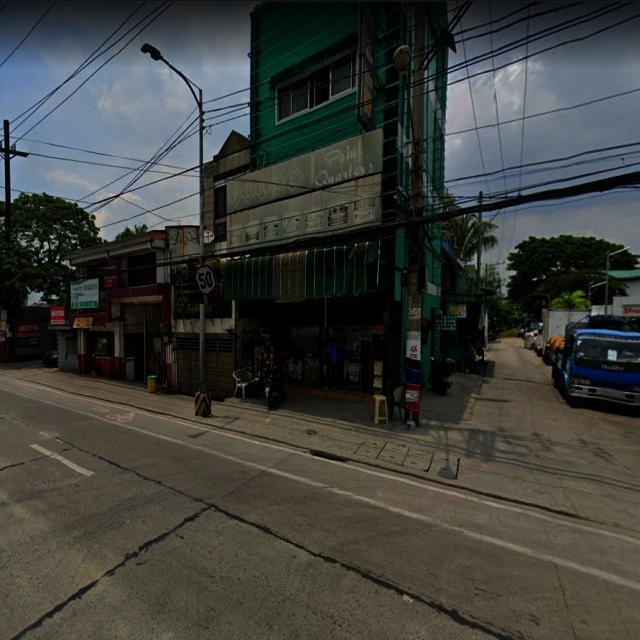50 kph: (188, 256, 220, 304)
